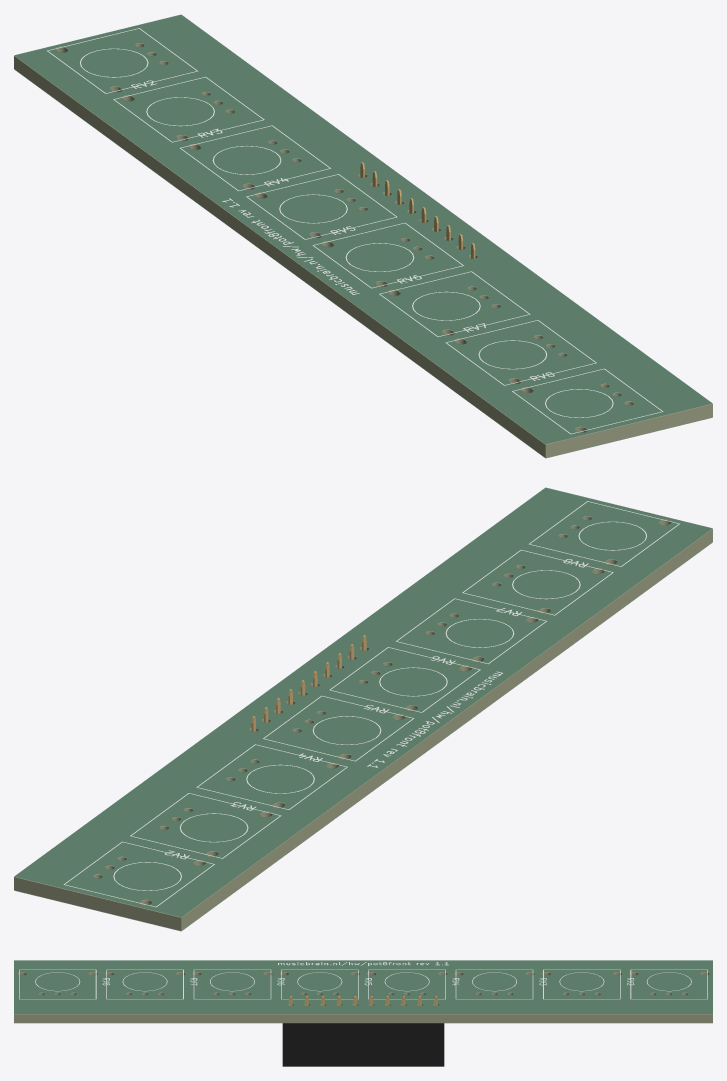
The model's file is musicbrain-pot8front.glb.
3 views of the same model, one above another, from view 1: azimuth 30°, elevation 25°; view 2: azimuth 150°, elevation 25°; view 3: azimuth 270°, elevation 25° (orthographic). The views are drawn at different scales.
Parts seen in each view (by area): view 1: =>[0:1:1:8], =>[0:1:1:6], =>[0:1:1:4], =>[0:1:1:7], =>[0:1:1:3]; view 2: =>[0:1:1:8], =>[0:1:1:6], =>[0:1:1:4], =>[0:1:1:7], =>[0:1:1:3]; view 3: =>[0:1:1:8], =>[0:1:1:6], =>[0:1:1:3], =>[0:1:1:4], =>[0:1:1:7].
Part boxes in pixels (x1,y1,x2,y2): =>[0:1:1:8]: (14,15,712,457); =>[0:1:1:6]: (14,14,712,444); =>[0:1:1:4]: (47,28,663,434); =>[0:1:1:7]: (14,69,712,458); =>[0:1:1:3]: (360,162,475,258); =>[0:1:1:8]: (14,488,712,930); =>[0:1:1:6]: (14,487,712,917); =>[0:1:1:4]: (63,501,679,907); =>[0:1:1:7]: (14,542,712,931); =>[0:1:1:3]: (251,635,366,731); =>[0:1:1:8]: (14,961,712,1022); =>[0:1:1:6]: (14,960,712,1013); =>[0:1:1:3]: (282,996,444,1066); =>[0:1:1:4]: (19,962,707,999); =>[0:1:1:7]: (14,1023,712,1023).
Size of the model in its own units: 0.02 by 0.0116 by 0.11.
